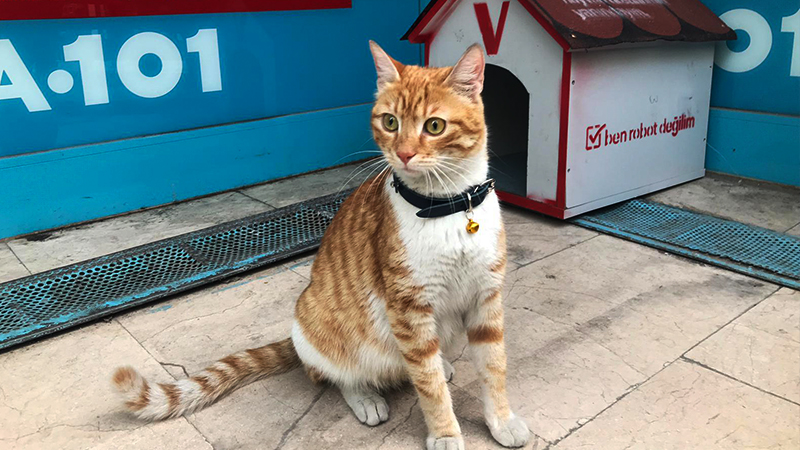cat: (368, 47, 500, 303)
